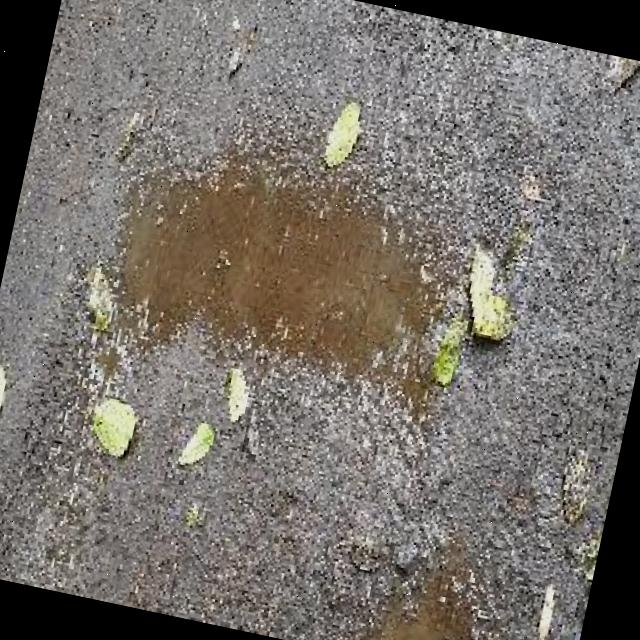waterlogging: (81, 112, 500, 430)
